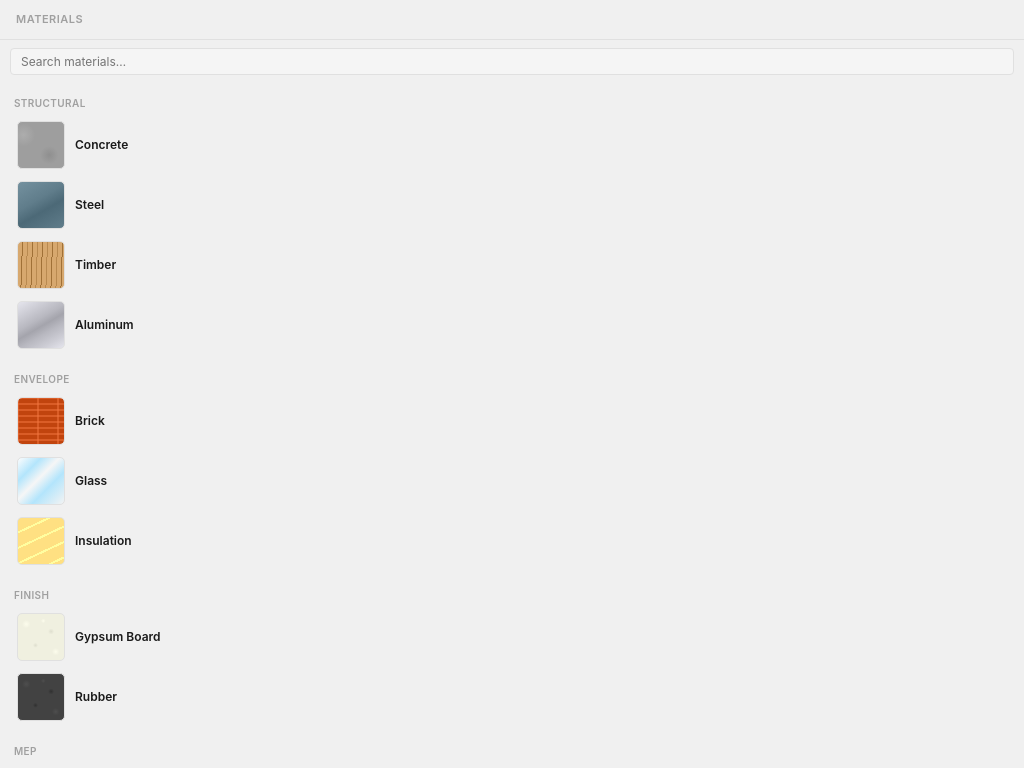
Test: T-BIM-001 MaterialsPanel › selecting a material shows its details
Click the button with test id "^material-item-" at (73, 145), box [17,121,128,169]
(page scrolled)
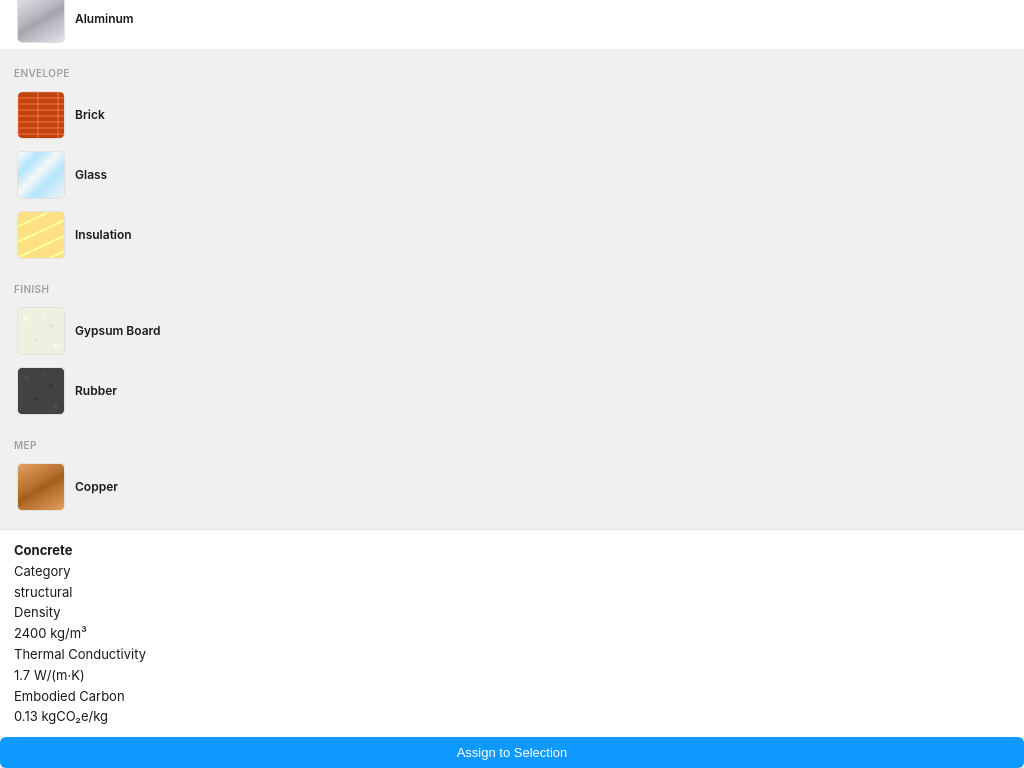
Now the element with test id "material-detail" is shown, box [0,529,1023,737]
